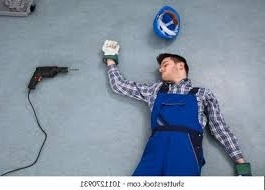fall: (97, 36, 252, 175)
